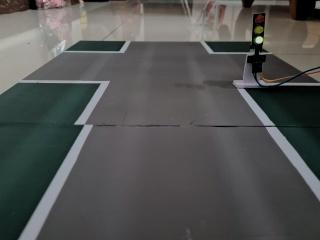green: (240, 6, 278, 55)
